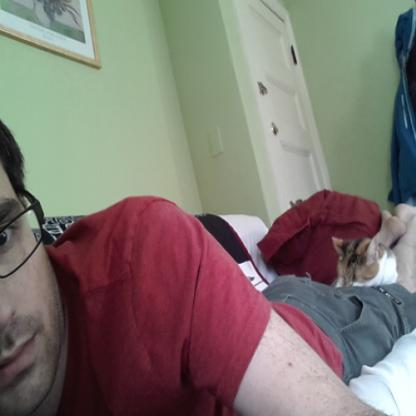Target: (328, 229, 401, 295)
